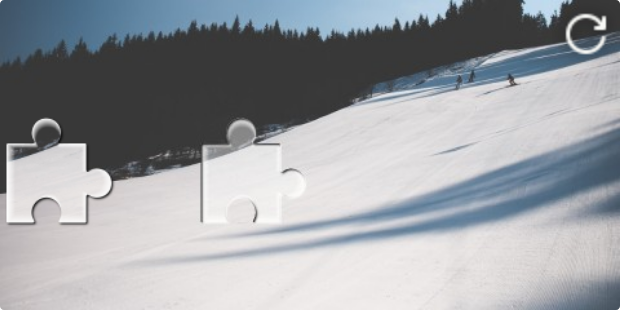target: (200, 118, 306, 225)
